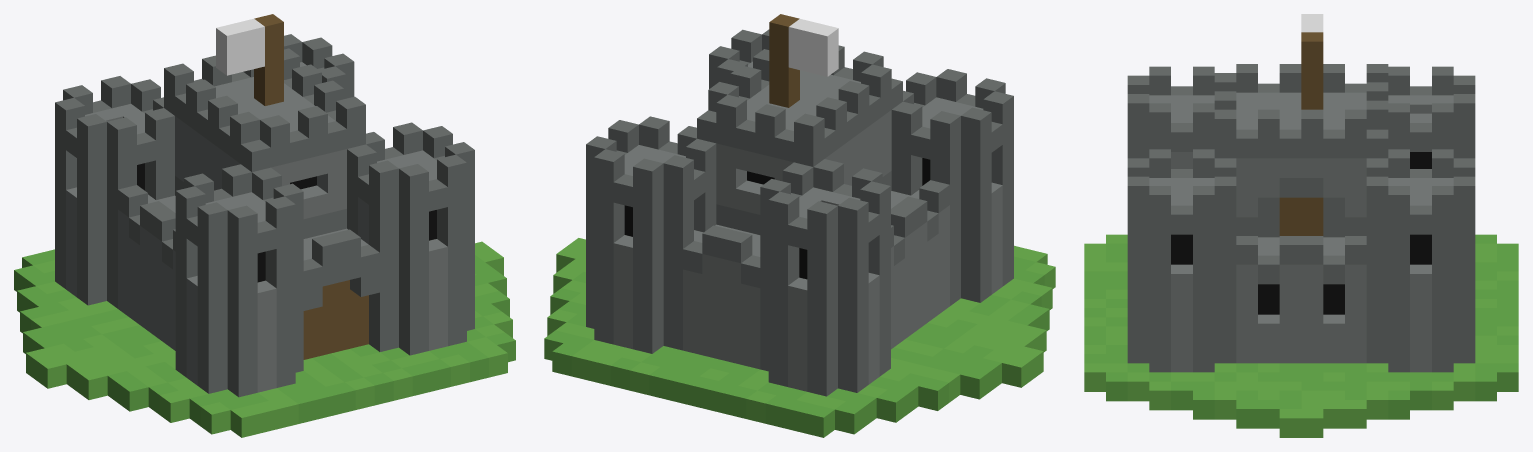
File: overworld-45-grassland_castle.obj
3 views of the same model, side by side, from view 1: azimuth 30°, elevation 25°; view 2: azimuth 150°, elevation 25°; view 3: azimuth 270°, elevation 25° (orthographic). The views are drawn at different scales.
Parts seen in each view (by area): view 1: grassland_castle; view 2: grassland_castle; view 3: grassland_castle.
Part boxes in pixels (<box>): grassland_castle: <box>14,14,515,437</box>; grassland_castle: <box>544,14,1055,437</box>; grassland_castle: <box>1084,14,1518,437</box>.
Bounding box in the file's own units: 2.4 × 1.5 × 2.
1 material, 1 textured.
